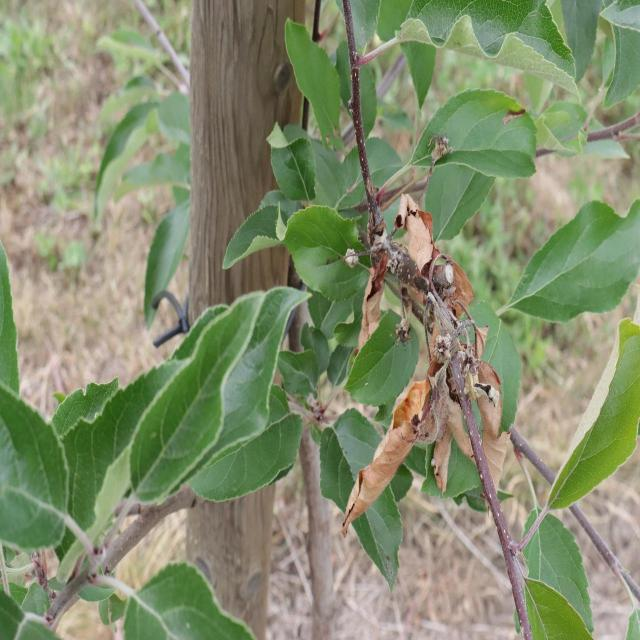-FireBlight-: (324, 191, 531, 541)
